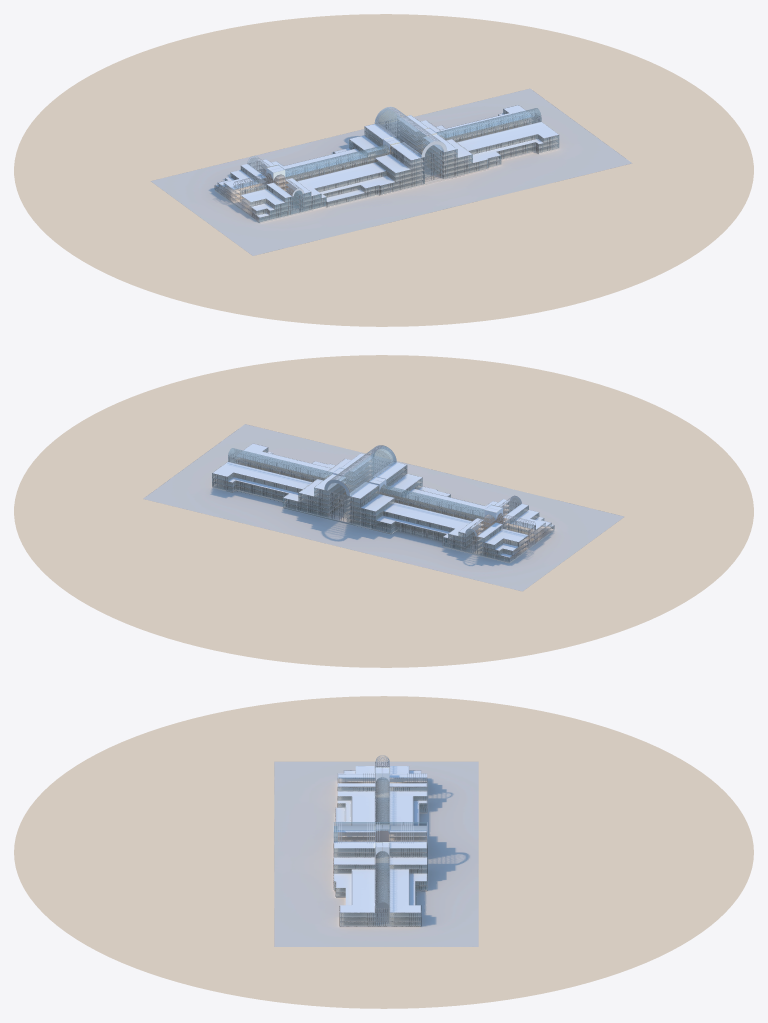
The model's file is example_09.glb.
3 renders of one model, top to bottom at view 1: azimuth 30°, elevation 25°; view 2: azimuth 150°, elevation 25°; view 3: azimuth 270°, elevation 25°, orthographic.
Visible parts, largest first — view 1: Grund.001, Grund.003, Plane.009, Plane.004, Plane.005, Plane.014, Plane.020, Plane.021; view 2: Grund.001, Grund.003, Plane.004, Plane.009, Plane.005, Plane.014, Plane.020, Plane.021; view 3: Grund.001, Grund.003, Plane.004, Plane.009, Plane.014, Plane.021, Plane.020, Plane.005.
Boxes of the visible parts, x1,y1,x2,y2 form: Grund.001: [14, 14, 753, 326]; Grund.003: [151, 88, 632, 255]; Plane.009: [349, 111, 535, 194]; Plane.004: [218, 110, 559, 215]; Plane.005: [215, 158, 326, 221]; Plane.014: [375, 107, 432, 156]; Plane.020: [285, 145, 389, 179]; Plane.021: [437, 108, 540, 140]; Grund.001: [14, 355, 753, 667]; Grund.003: [143, 424, 624, 591]; Plane.004: [212, 448, 551, 554]; Plane.009: [283, 449, 437, 532]; Plane.005: [391, 497, 554, 561]; Plane.014: [338, 446, 395, 495]; Plane.020: [379, 485, 483, 519]; Plane.021: [228, 448, 332, 480]; Grund.001: [14, 696, 753, 1008]; Grund.003: [274, 755, 478, 946]; Plane.004: [336, 881, 426, 925]; Plane.009: [334, 826, 426, 889]; Plane.014: [334, 822, 426, 830]; Plane.021: [376, 851, 389, 905]; Plane.020: [376, 777, 389, 823]; Plane.005: [338, 778, 426, 811].
Size of the model in its own units: 1200 by 74.06 by 1200.
Materials: 3 (1 with a texture image).
